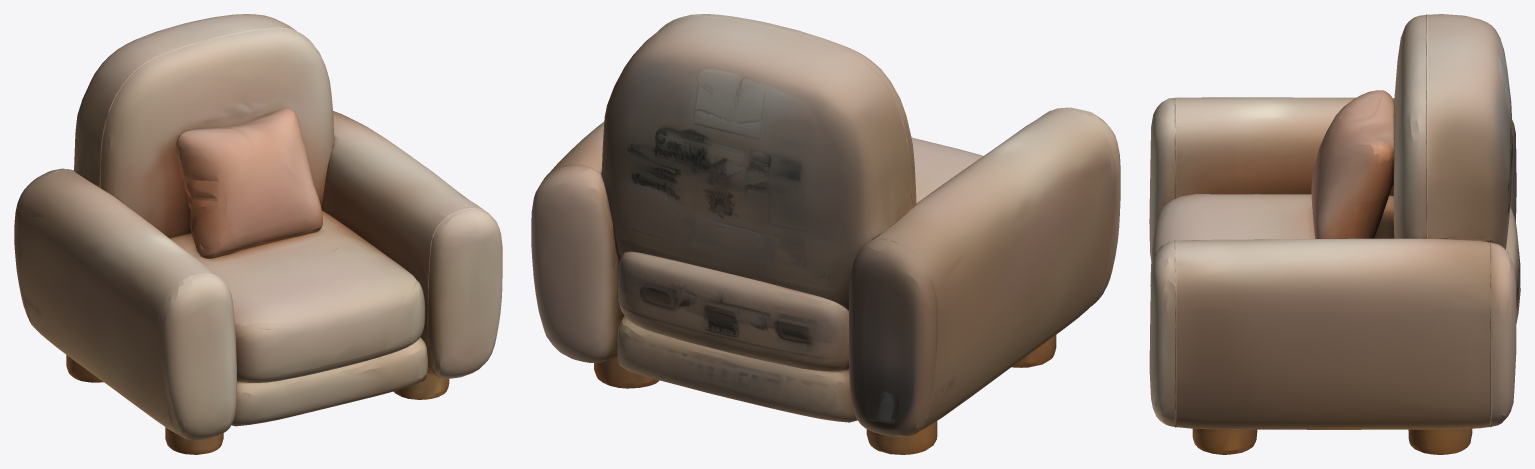
The model's file is ArmChair.glb.
3 renders of one model, left to right at view 1: azimuth 30°, elevation 25°; view 2: azimuth 150°, elevation 25°; view 3: azimuth 270°, elevation 25°, orthographic. The views are drawn at different scales.
Parts seen in each view (by area): view 1: model; view 2: model; view 3: model.
Boxes of the visible parts, left/top/right/bottom form: model: left=14, top=14, right=502, bottom=454; model: left=531, top=14, right=1120, bottom=454; model: left=1149, top=14, right=1520, bottom=454.
Bounding box in the file's own units: 1.87 × 1.64 × 1.62.
Materials: 1 (1 with a texture image).
